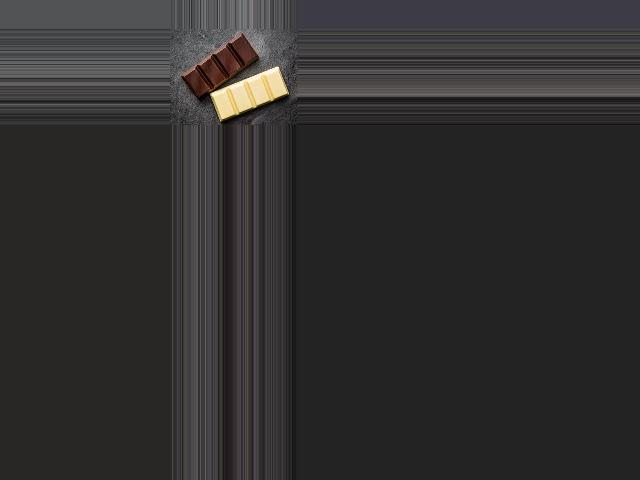chocolate: (182, 35, 293, 120)
